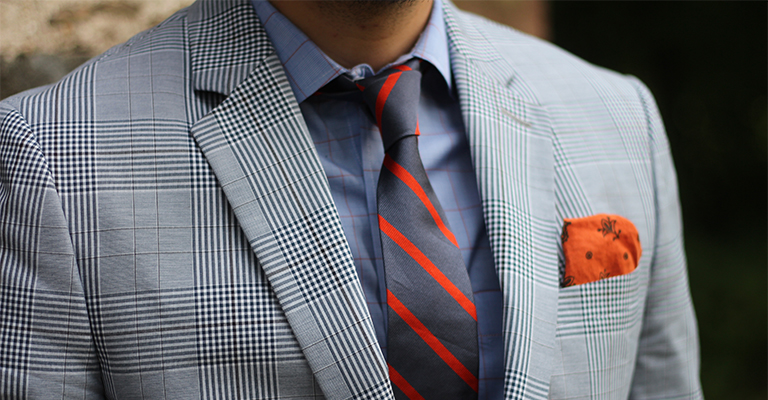tie: (340, 54, 512, 396)
